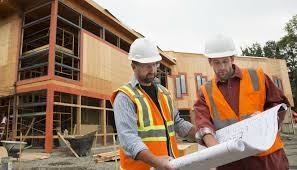hard hat: (128, 37, 163, 63), (205, 33, 236, 58)
high-vis: (202, 67, 284, 158), (110, 80, 179, 170)
